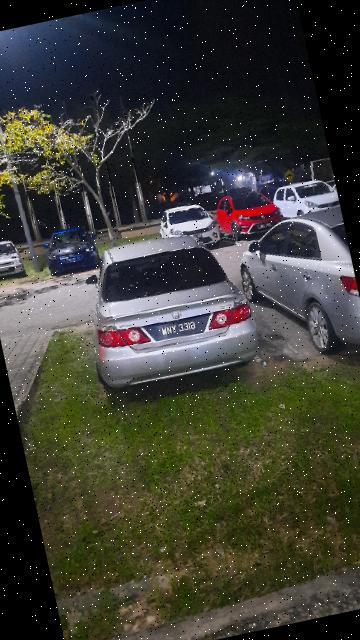License_Plate: (139, 311, 216, 347), (257, 222, 275, 230)
car: (73, 221, 265, 401), (230, 202, 360, 373), (212, 184, 289, 245), (156, 197, 224, 256), (272, 175, 343, 227), (40, 222, 105, 278), (1, 236, 30, 285)
